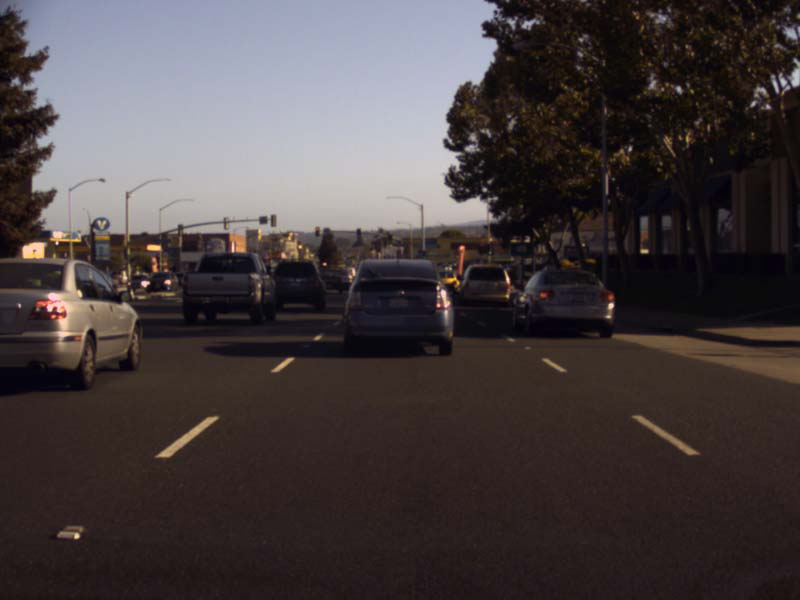Green: (487, 244, 493, 254), (422, 251, 425, 258)
Red: (315, 227, 319, 235)
